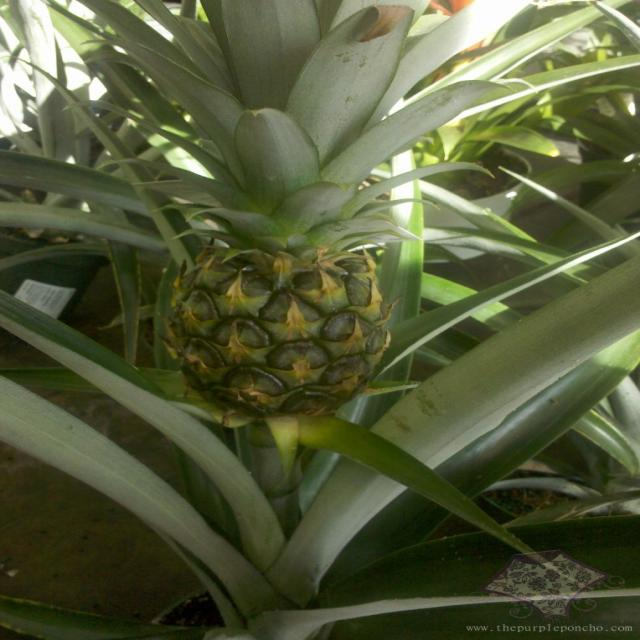Pineapple: (222, 0, 320, 110)
